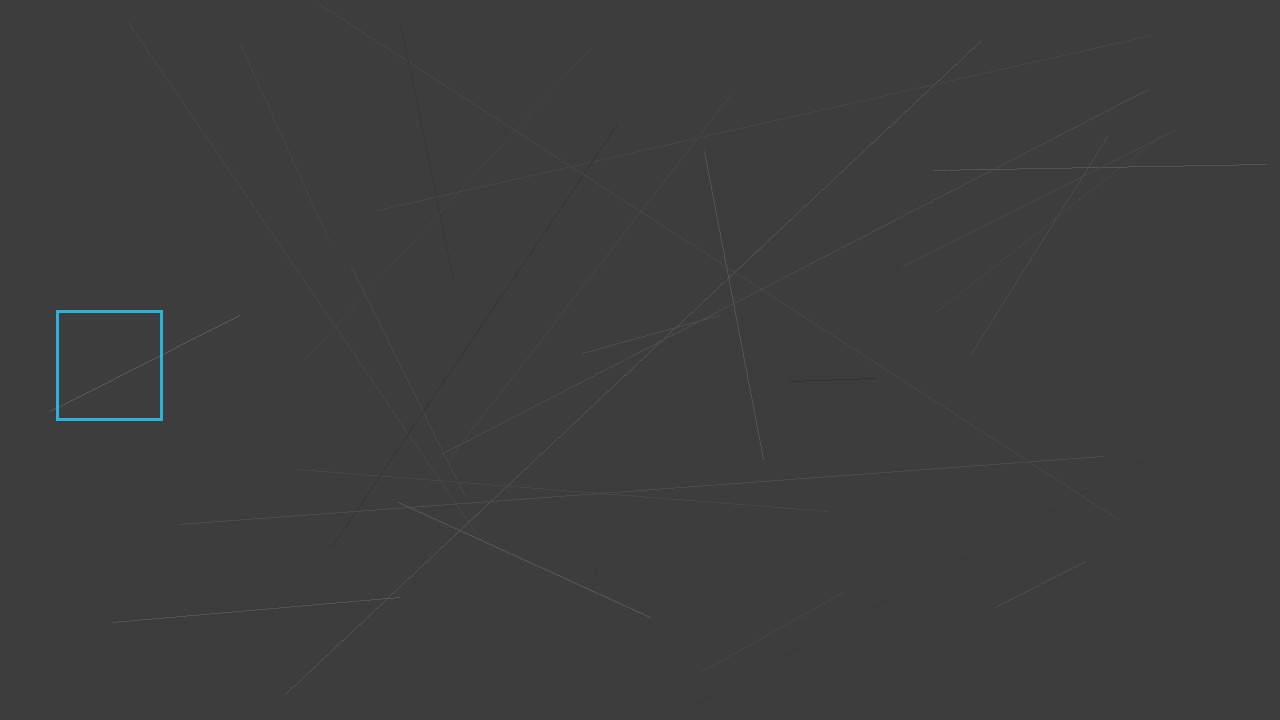D10: (56, 310, 162, 420)
